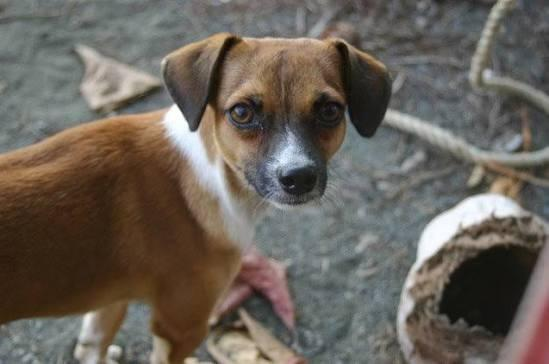adult_dog: (0, 31, 392, 364)
